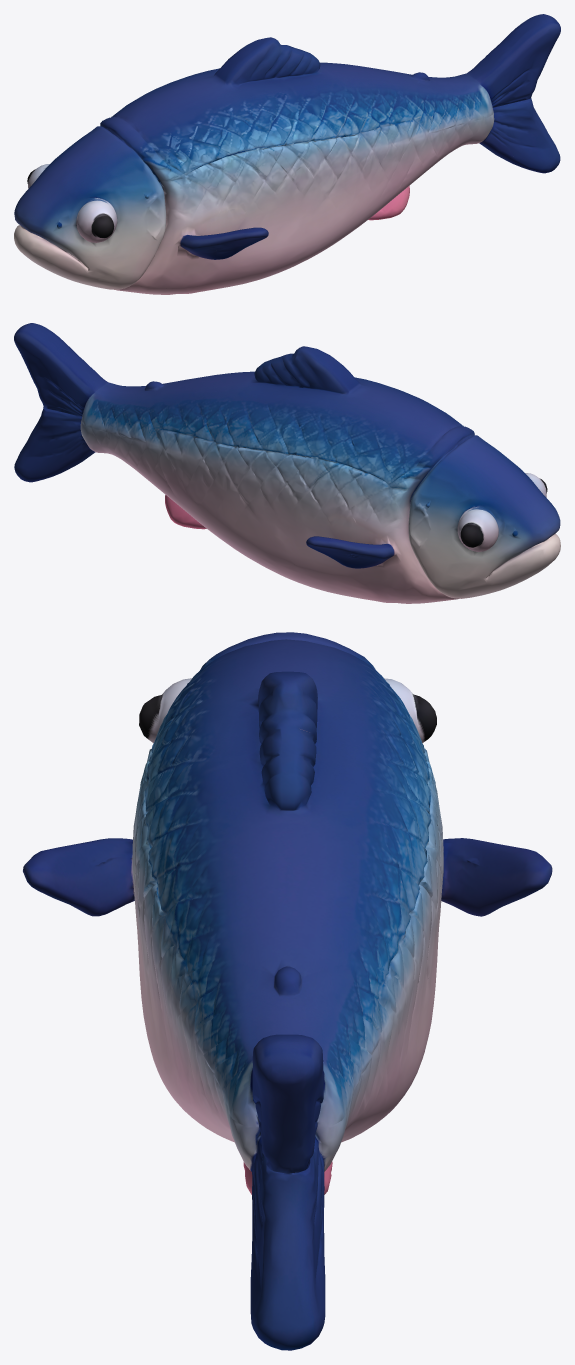
File: fish.glb
3 views of the same model, one above another, from view 1: azimuth 30°, elevation 25°; view 2: azimuth 150°, elevation 25°; view 3: azimuth 270°, elevation 25° (orthographic). The views are drawn at different scales.
Parts seen in each view (by area): view 1: tripo_node_40631154-5554-4b74-b133-2e935b808f14; view 2: tripo_node_40631154-5554-4b74-b133-2e935b808f14; view 3: tripo_node_40631154-5554-4b74-b133-2e935b808f14.
Boxes of the visible parts, <box> form: tripo_node_40631154-5554-4b74-b133-2e935b808f14: <box>14,14,560,294</box>; tripo_node_40631154-5554-4b74-b133-2e935b808f14: <box>14,323,560,603</box>; tripo_node_40631154-5554-4b74-b133-2e935b808f14: <box>23,632,552,1350</box>.
Bounding box in the file's own units: 0.9808 × 0.3934 × 0.4168.
1 material, 1 textured.
